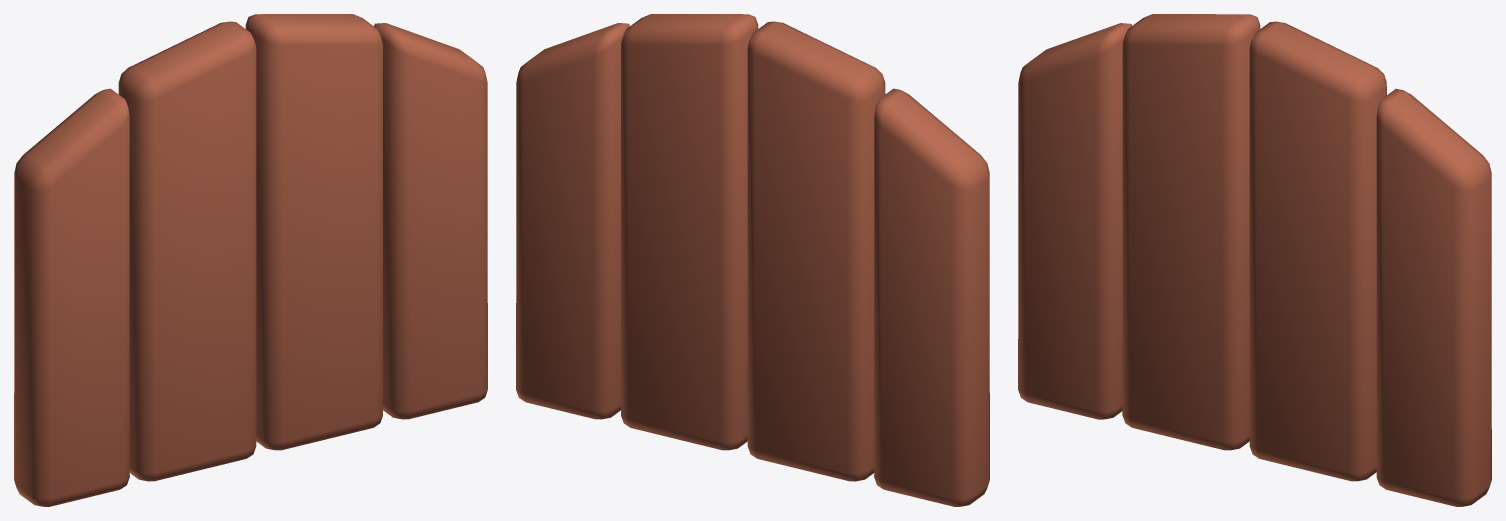
Rendered from wood door.fbx.
The picture shows the model from 3 angles, left to right: view 1: azimuth 30°, elevation 25°; view 2: azimuth 150°, elevation 25°; view 3: azimuth 330°, elevation 25°; orthographic projection.
Parts seen in each view (by area): view 1: wood door; view 2: wood door; view 3: wood door.
Part boxes in pixels (box(x1,y1,x2,y2)): wood door: box(14, 14, 487, 506); wood door: box(516, 14, 989, 506); wood door: box(1018, 14, 1491, 506).
Bounding box in the file's own units: 200 × 178 × 23.3.
